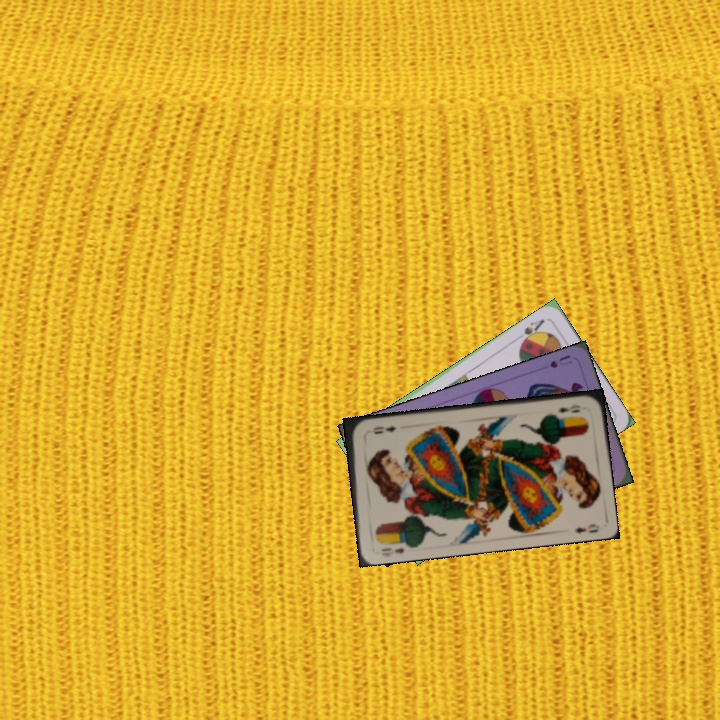EO: (555, 400, 584, 415), (377, 544, 406, 559)
SA: (513, 315, 547, 347)
SU: (546, 351, 575, 371)
